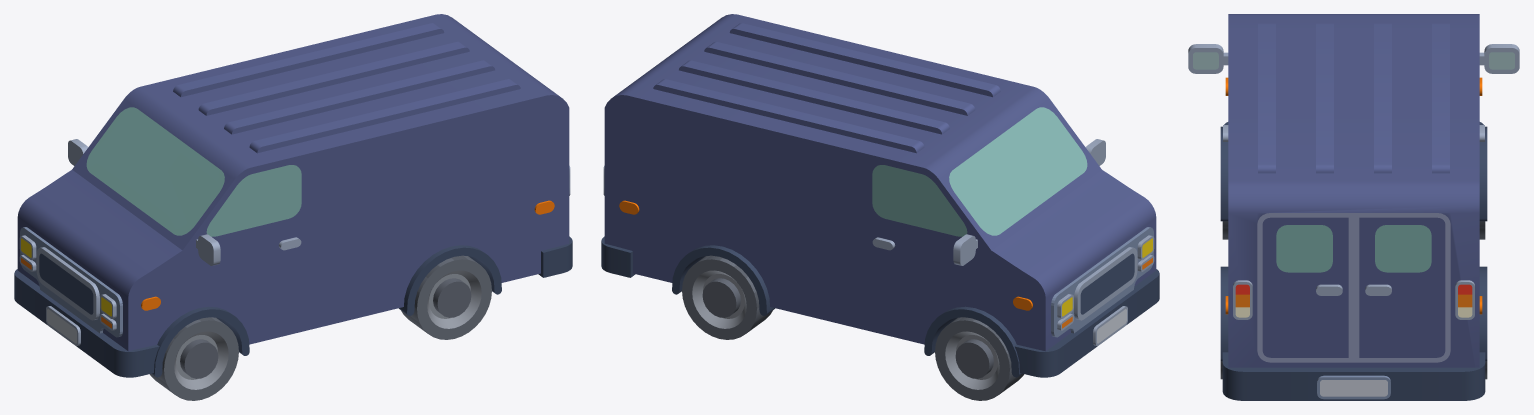
Rendered from Van Repair Service .fbx.
3 views of the same model, side by side, from view 1: azimuth 30°, elevation 25°; view 2: azimuth 150°, elevation 25°; view 3: azimuth 270°, elevation 25° (orthographic). The views are drawn at different scales.
Parts seen in each view (by area): view 1: Van Repair Service, Van Repair Service Wheel.001, Van Repair Service Wheel; view 2: Van Repair Service, Van Repair Service Wheel.001, Van Repair Service Wheel; view 3: Van Repair Service, Van Repair Service Door, Van Repair Service Door.001.
Boxes of the visible parts, x1,y1,x2,y2 form: Van Repair Service: [14, 14, 572, 377]; Van Repair Service Wheel.001: [401, 255, 491, 339]; Van Repair Service Wheel: [149, 317, 238, 400]; Van Repair Service: [601, 14, 1159, 377]; Van Repair Service Wheel.001: [682, 255, 772, 339]; Van Repair Service Wheel: [935, 317, 1024, 400]; Van Repair Service: [1188, 14, 1519, 400]; Van Repair Service Door: [1257, 213, 1353, 362]; Van Repair Service Door.001: [1354, 213, 1450, 362].
Size of the model in its own units: 7.16 by 3.3 by 3.91.
